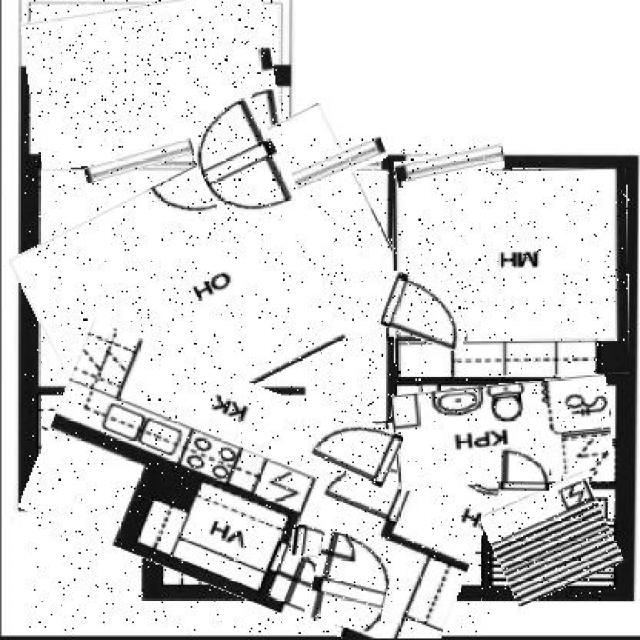door: (189, 94, 289, 228), (310, 535, 392, 631), (308, 411, 400, 482), (378, 279, 474, 346), (498, 449, 550, 491), (292, 526, 345, 560)
window: (396, 146, 504, 183), (292, 143, 388, 183), (84, 146, 196, 177)
zone: (29, 358, 491, 634), (25, 136, 403, 424), (392, 168, 630, 377), (25, 0, 278, 160), (394, 380, 612, 485), (488, 480, 617, 597)
